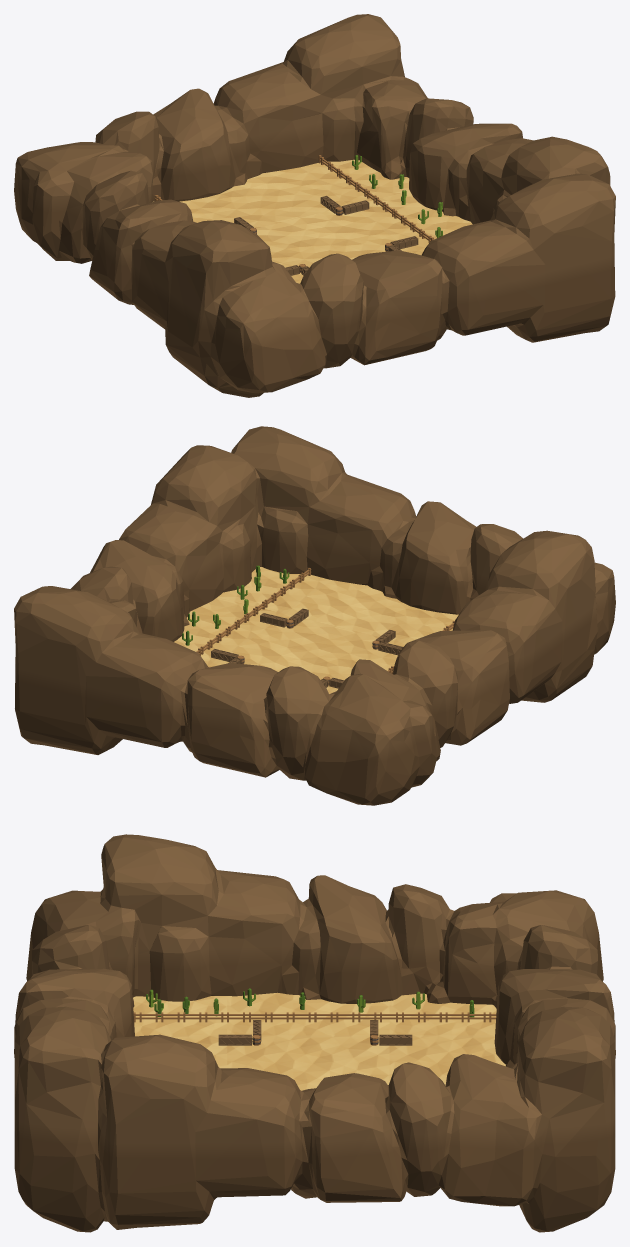
File: CanyonClashFrontend.glb
The picture shows the model from 3 angles, top to bottom: view 1: azimuth 30°, elevation 25°; view 2: azimuth 150°, elevation 25°; view 3: azimuth 270°, elevation 25°; orthographic projection. The views are drawn at different scales.
Parts seen in each view (by area): view 1: Canyon, Floor, Barricades, Fence, Cactuses; view 2: Canyon, Floor, Barricades, Fence, Cactuses; view 3: Canyon, Floor, Fence, Barricades, Cactuses.
Boxes of the visible parts, x1,y1,x2,y2 form: Canyon: (14, 14, 615, 397); Floor: (153, 159, 472, 283); Barricades: (234, 195, 418, 275); Fence: (154, 155, 433, 242); Cactuses: (352, 155, 442, 237); Canyon: (14, 426, 615, 805); Floor: (174, 567, 458, 693); Barricades: (211, 608, 402, 688); Fence: (196, 568, 455, 673); Cactuses: (182, 565, 289, 645); Canyon: (14, 834, 615, 1232); Floor: (133, 992, 505, 1090); Fence: (133, 1012, 496, 1022); Barricades: (218, 1020, 412, 1085); Cactuses: (146, 988, 474, 1017).
Bounding box in the file's own units: 68.47 × 26 × 72.42.
Materials: 4 (4 with a texture image).
